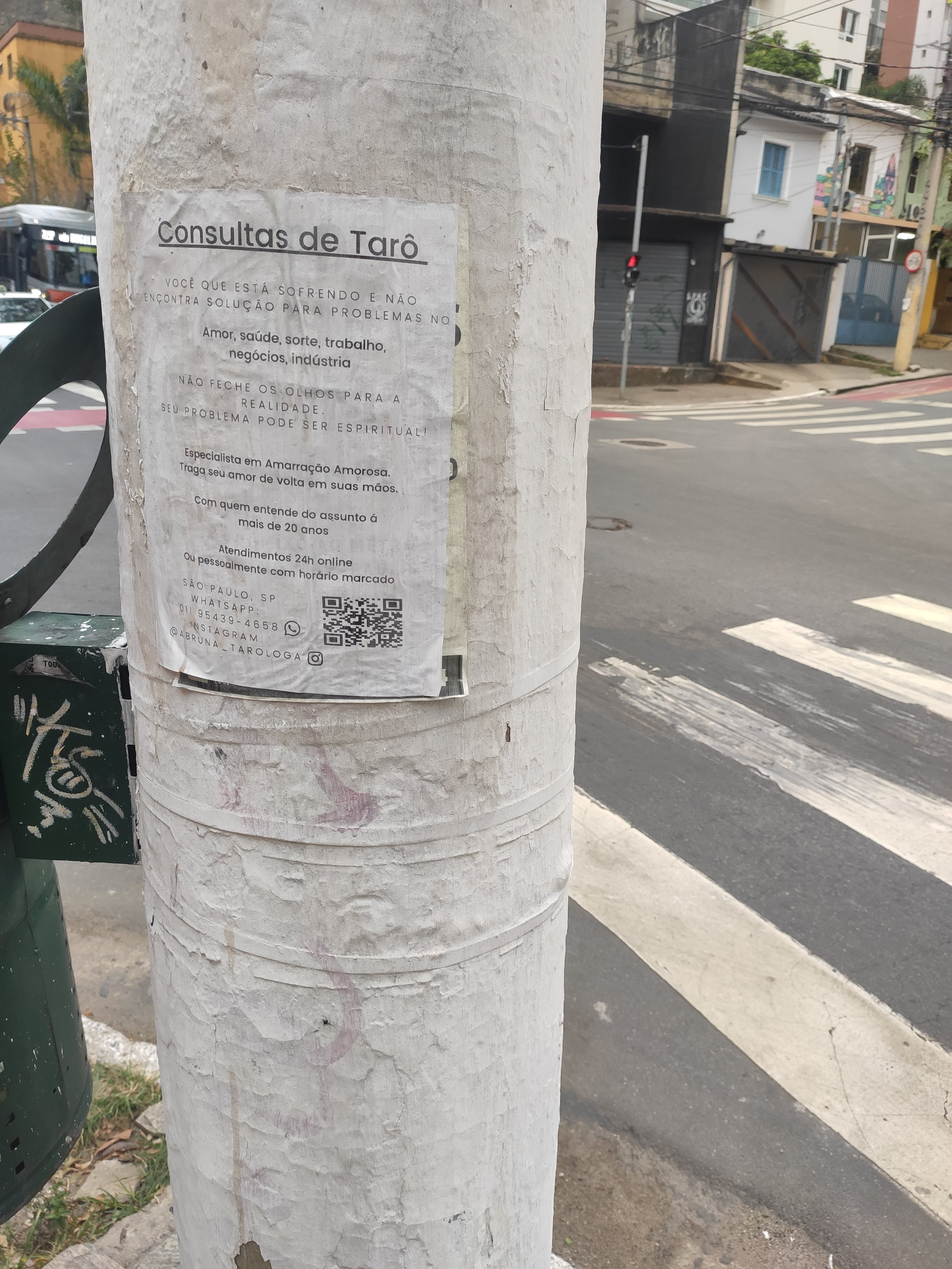QR-CODE: (323, 596, 403, 648)
